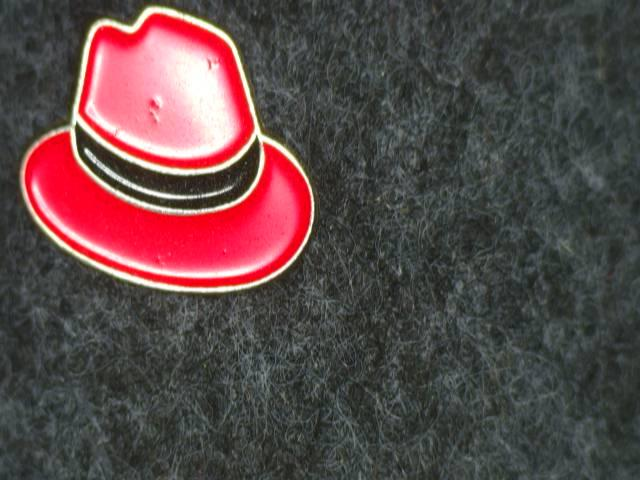Red-Hat: (0, 0, 337, 317)
